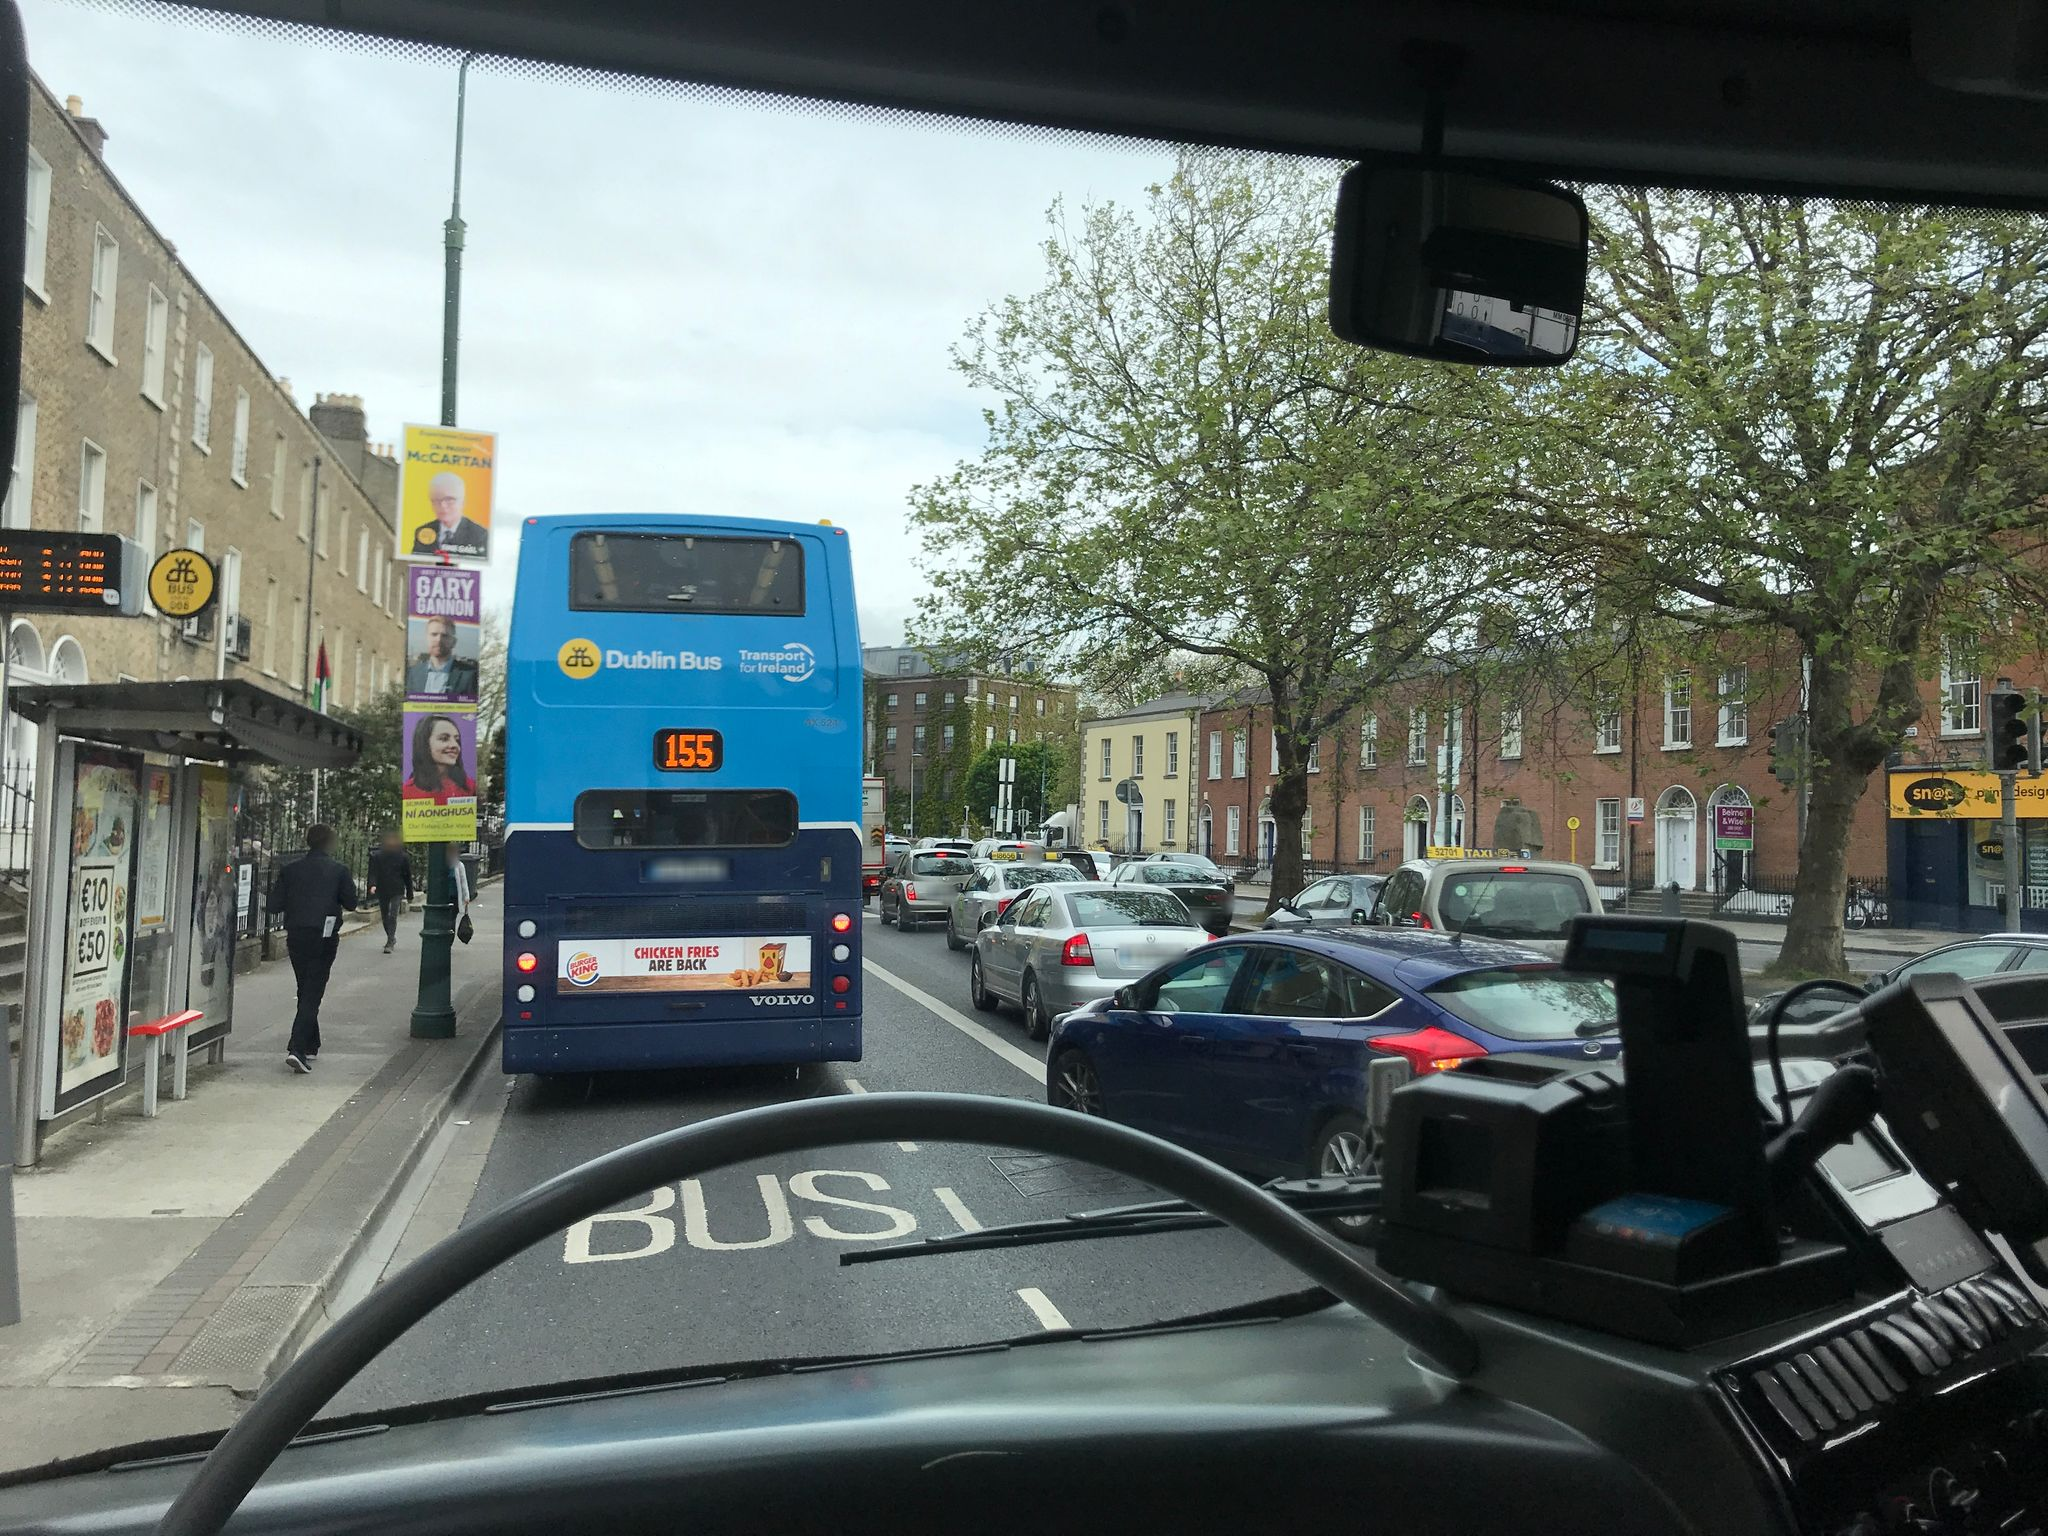property sign: (1708, 787, 1758, 870)
